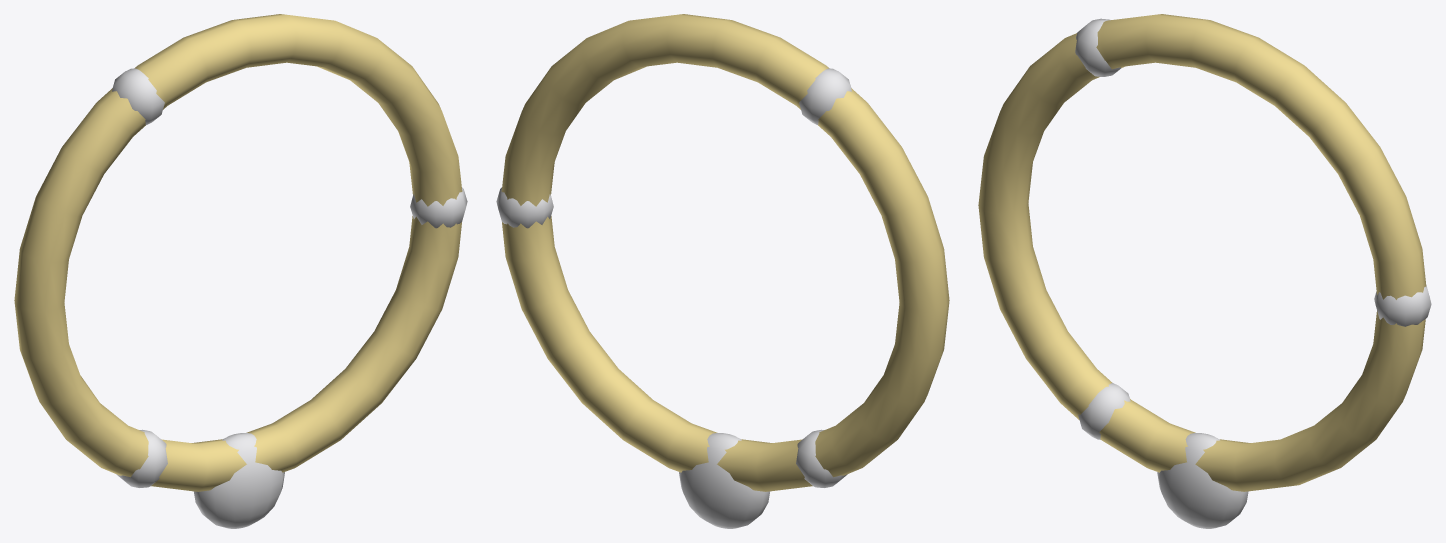
Rendered from VM-ACC-FS5.glb.
The picture shows the model from 3 angles, left to right: view 1: azimuth 30°, elevation 25°; view 2: azimuth 150°, elevation 25°; view 3: azimuth 330°, elevation 25°; orthographic projection.
Visible parts, largest first — view 1: Pulsera Mujer Cadena Dorado Plateado; view 2: Pulsera Mujer Cadena Dorado Plateado; view 3: Pulsera Mujer Cadena Dorado Plateado.
Boxes of the visible parts, left/top/right/bottom form: Pulsera Mujer Cadena Dorado Plateado: left=14, top=14, right=467, bottom=528; Pulsera Mujer Cadena Dorado Plateado: left=496, top=14, right=949, bottom=528; Pulsera Mujer Cadena Dorado Plateado: left=978, top=14, right=1431, bottom=528.
Size of the model in its own units: 0.1263 by 0.137 by 0.0148.
